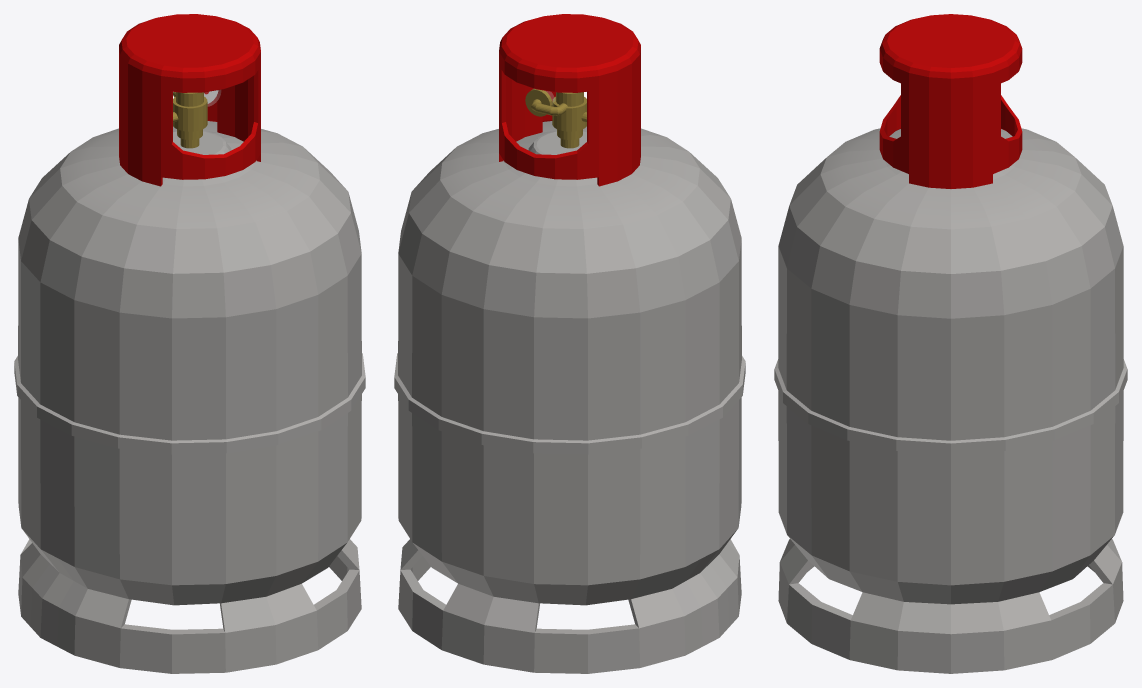
The model's file is propaneTank.fbx.
The picture shows the model from 3 angles, left to right: view 1: azimuth 30°, elevation 25°; view 2: azimuth 150°, elevation 25°; view 3: azimuth 270°, elevation 25°; orthographic projection.
Parts seen in each view (by area): view 1: propaneTank; view 2: propaneTank; view 3: propaneTank.
Boxes of the visible parts, x1,y1,x2,y2 form: propaneTank: (14, 14, 365, 673); propaneTank: (394, 14, 745, 673); propaneTank: (774, 14, 1127, 673).
Size of the model in its own units: 2.19 by 3.84 by 2.19.
